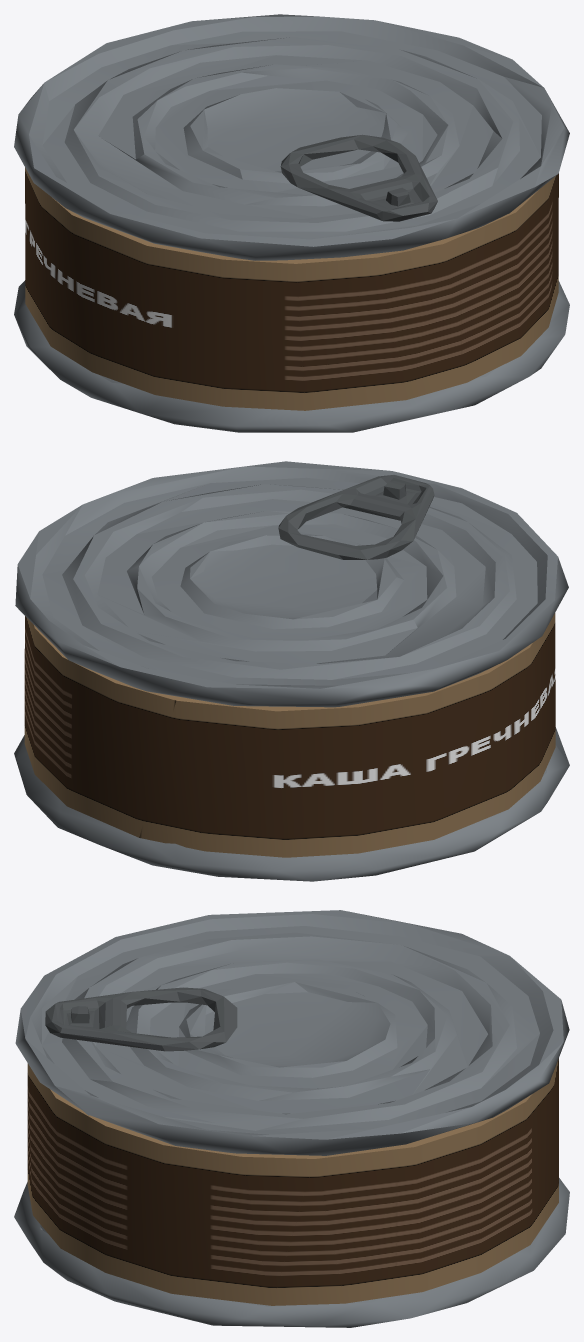
File: гречка.fbx
3 renders of one model, top to bottom at view 1: azimuth 30°, elevation 25°; view 2: azimuth 150°, elevation 25°; view 3: azimuth 270°, elevation 25°, orthographic.
Visible parts, largest first — view 1: Цилиндр.001; view 2: Цилиндр.001; view 3: Цилиндр.001.
Part boxes in pixels (x1,y1,x2,y2): Цилиндр.001: [14, 14, 569, 432]; Цилиндр.001: [14, 461, 569, 881]; Цилиндр.001: [14, 910, 569, 1327].
Size of the model in its own units: 200 by 81.74 by 199.
1 material, 1 textured.
